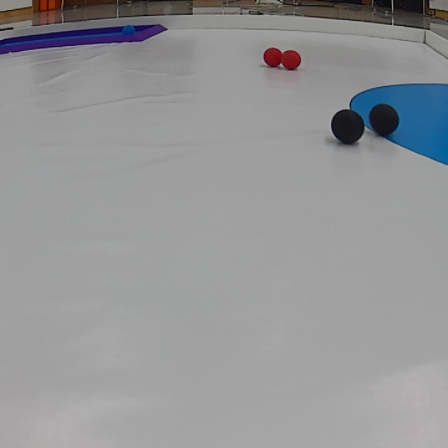black: (330, 105, 367, 151), (368, 97, 401, 138)
blue: (120, 23, 136, 38)
blue_aim: (0, 22, 169, 52)
blue_base: (343, 81, 448, 177)
red: (260, 47, 283, 69), (279, 50, 302, 71)
